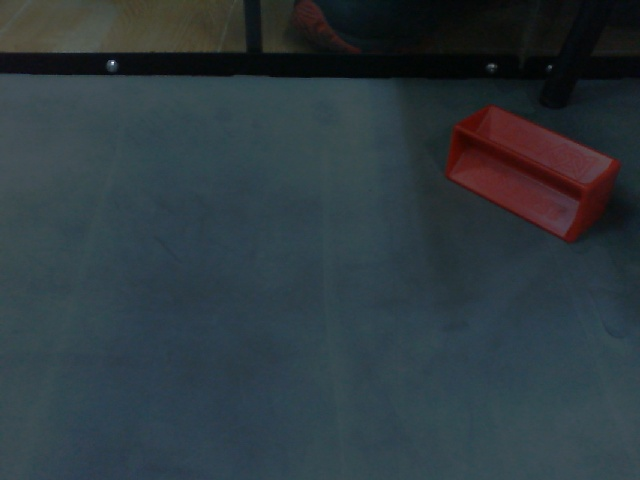RedSample: (442, 101, 624, 245)
